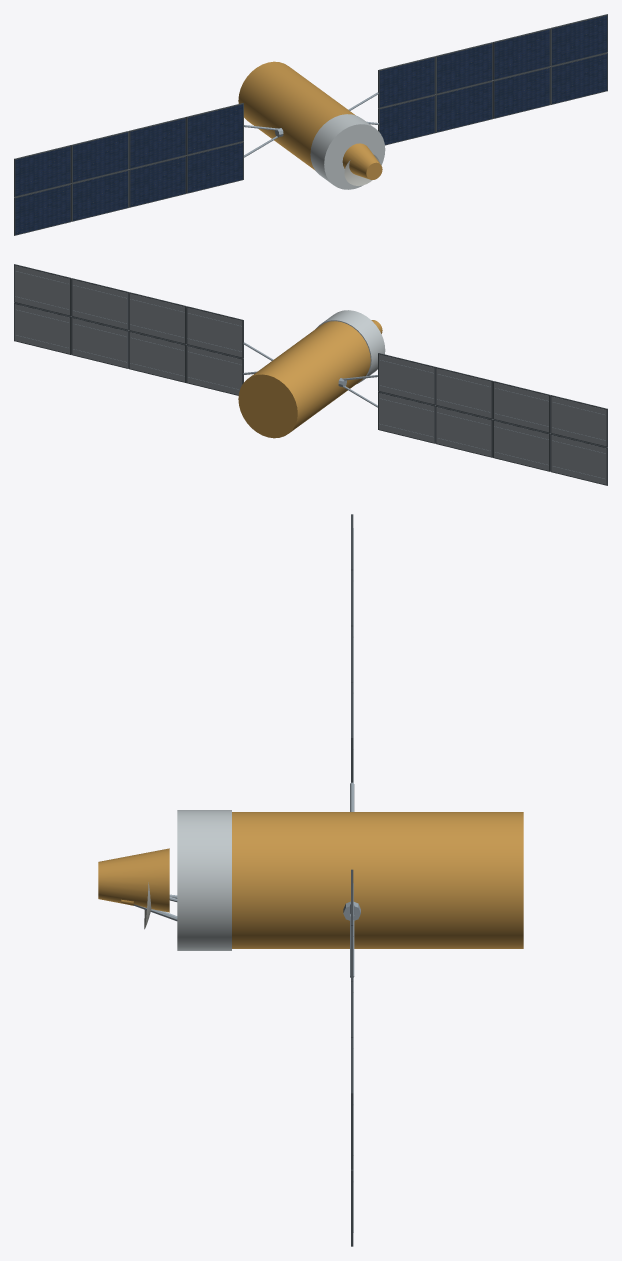
File: ref-globus-20083.glb
The picture shows the model from 3 angles, top to bottom: view 1: azimuth 30°, elevation 25°; view 2: azimuth 150°, elevation 25°; view 3: azimuth 270°, elevation 25°; orthographic projection. The views are drawn at different scales.
Parts seen in each view (by area): view 1: Solar cell panel (×16), Service barrel, Equipment flange, Solar panel frame (×7), Axial antenna horn, Deck-mounted reflector; view 2: Rear array substrate (×16), Service barrel, Solar panel frame (×7), Equipment flange; view 3: Service barrel, Equipment flange, Axial antenna horn.
Boxes of the visible parts, x1=… form: Solar cell panel (×16): x1=15, y1=15, x2=607, y2=234; Service barrel: x1=238, y1=61, x2=355, y2=169; Equipment flange: x1=310, y1=114, x2=385, y2=189; Solar panel frame (×7): x1=14, y1=28, x2=550, y2=235; Axial antenna horn: x1=342, y1=143, x2=382, y2=179; Deck-mounted reflector: x1=344, y1=154, x2=379, y2=185; Rear array substrate (×16): x1=14, y1=265, x2=606, y2=484; Service barrel: x1=238, y1=321, x2=370, y2=438; Solar panel frame (×7): x1=71, y1=278, x2=607, y2=485; Equipment flange: x1=316, y1=310, x2=385, y2=383; Service barrel: x1=232, y1=812, x2=523, y2=948; Equipment flange: x1=177, y1=810, x2=231, y2=950; Axial antenna horn: x1=98, y1=848, x2=169, y2=912.
Bounding box in the file's own units: 19.98 × 2.47 × 6.2.
Materials: 7 (1 with a texture image).
